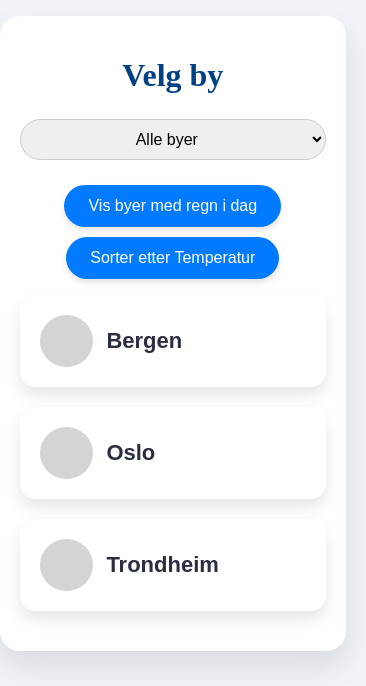
Test: CitiesListView › should filter cities based on region
Step 1. Select "Øst-Norge" in the dropdown → (173, 140), box [20,119,326,160]
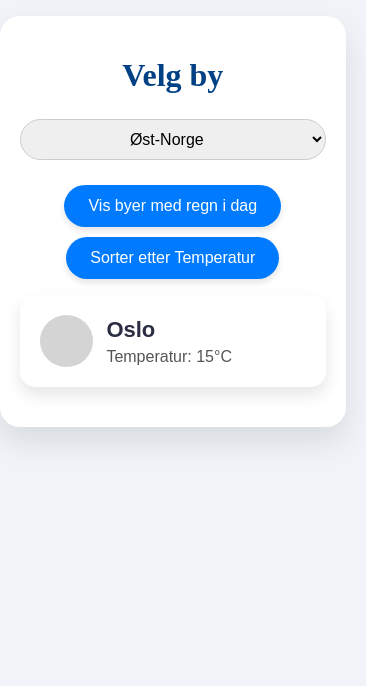
Expected: the text "Oslo" is shown, [106,317,155,342]
Expected: the text "Bergen" is gone
Expected: the text "Trondheim" is gone
